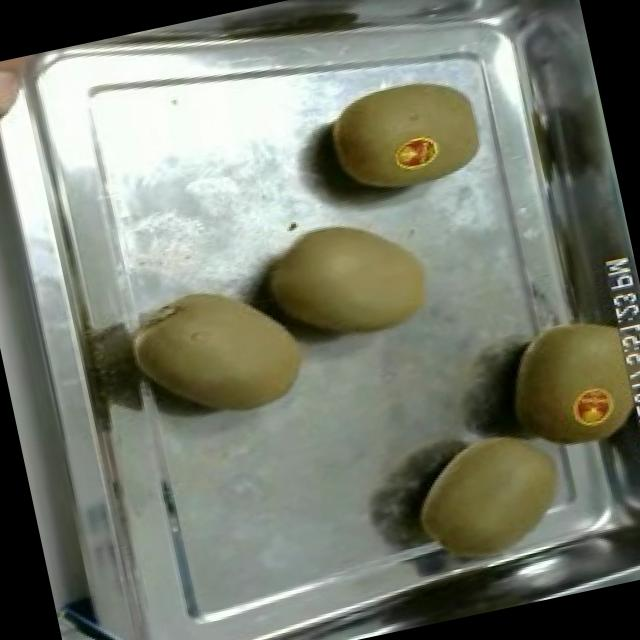Fruit: (113, 264, 320, 440), (390, 410, 589, 583), (241, 194, 443, 364), (308, 52, 504, 216), (486, 297, 640, 460), (0, 50, 65, 136)
